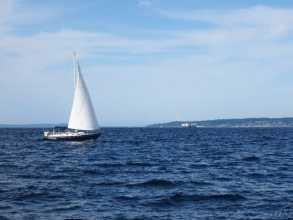fanchuan: (42, 57, 116, 141)
